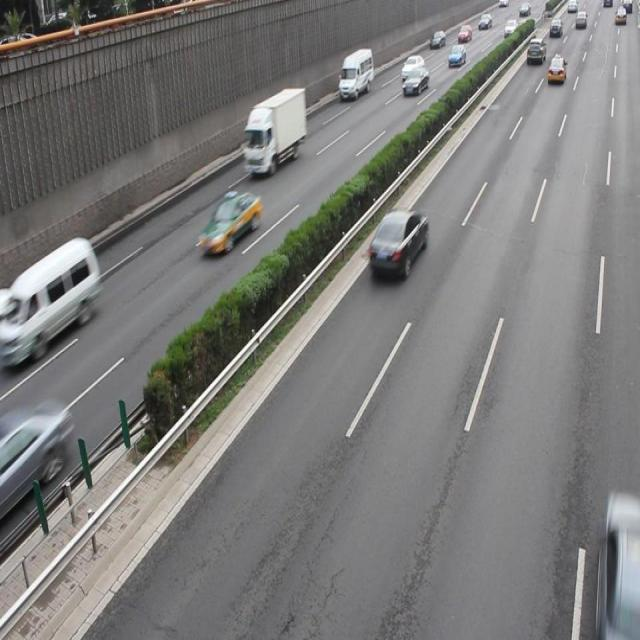bus: (243, 88, 305, 176)
car: (593, 488, 640, 640), (196, 191, 262, 255), (368, 207, 427, 277)
truck: (1, 237, 100, 359)
